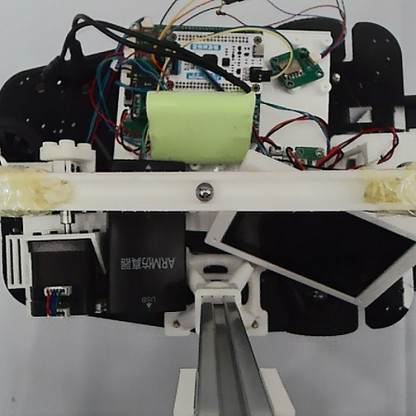ironball: (191, 180, 214, 202)
